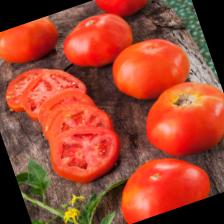tomato: (132, 69, 224, 166), (109, 143, 215, 224), (105, 29, 198, 108), (55, 3, 140, 76), (0, 14, 65, 71)
